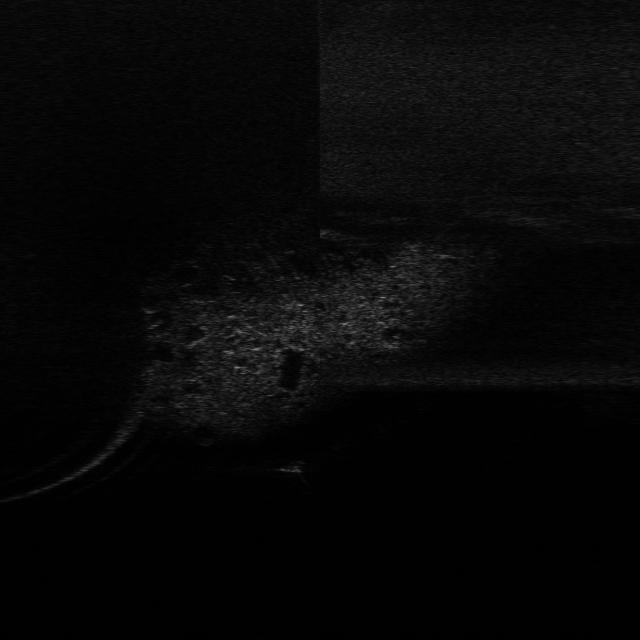cube: (276, 456, 313, 477)
